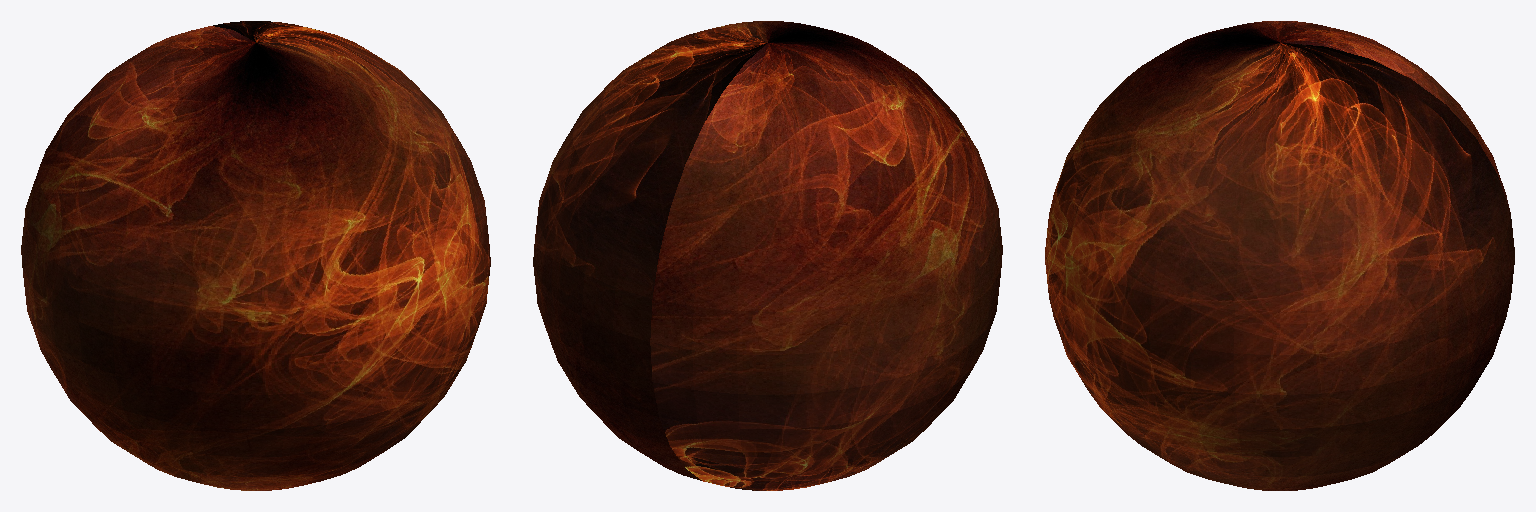
3 views of the same model, side by side, from view 1: azimuth 30°, elevation 25°; view 2: azimuth 150°, elevation 25°; view 3: azimuth 270°, elevation 25° (orthographic).
Visible parts, largest first — view 1: Sphere001; view 2: Sphere001; view 3: Sphere001.
Boxes of the visible parts, <box> form: Sphere001: <box>21,21,490,490</box>; Sphere001: <box>533,21,1002,490</box>; Sphere001: <box>1045,21,1514,490</box>.
Bounding box in the file's own units: 0.4 × 0.4 × 0.4.
1 materials, 1 textured.